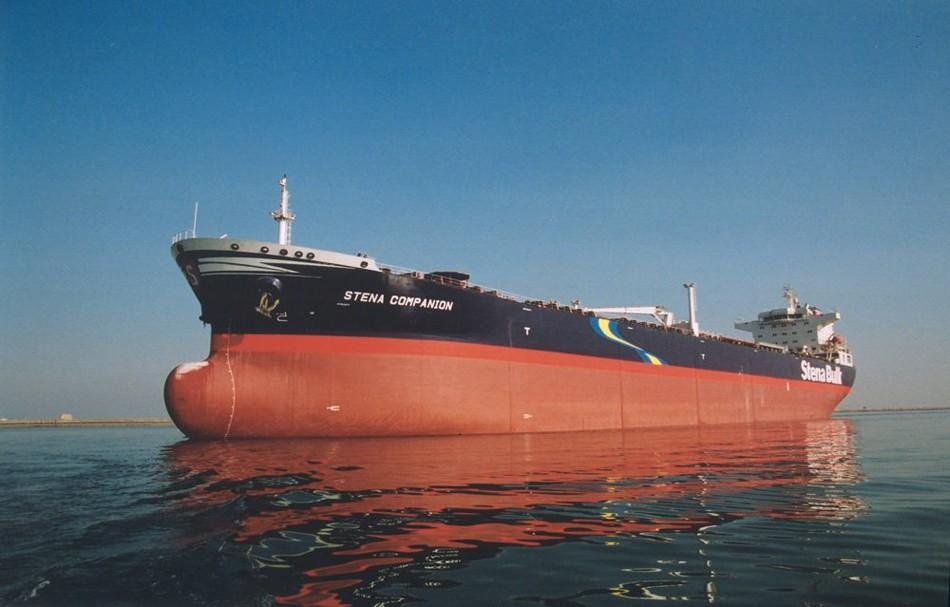Cargoship: (163, 174, 860, 444)
